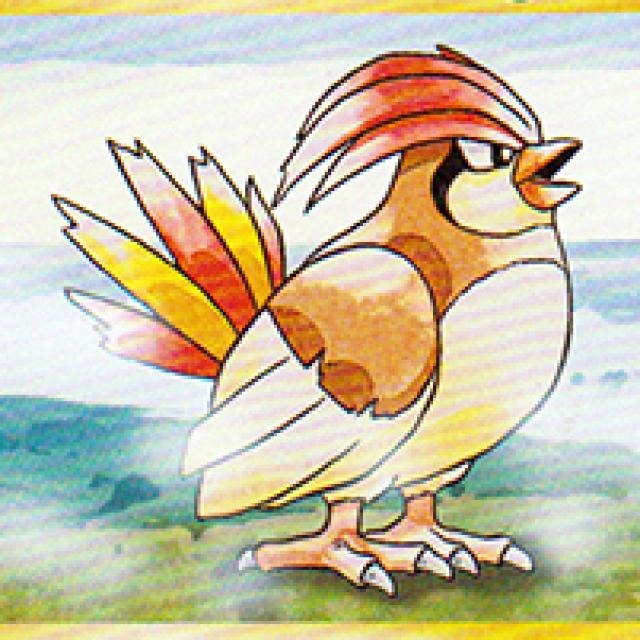Pidgeotto: (60, 38, 585, 587)
